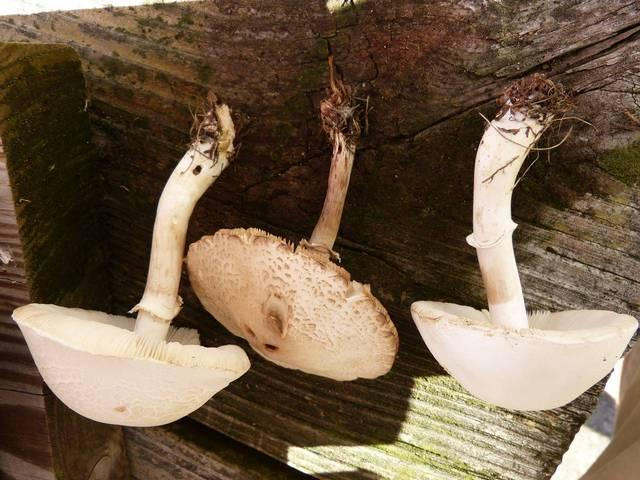poisonous_mushroom: (10, 90, 251, 428), (409, 72, 638, 412), (184, 54, 400, 382)
